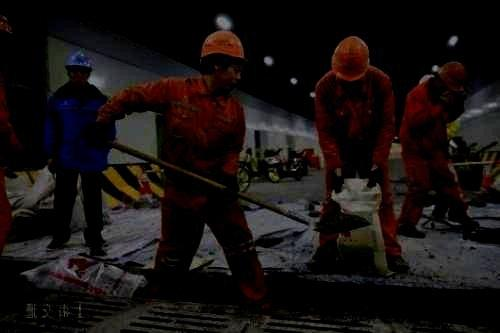helmet: (198, 29, 245, 89), (330, 36, 370, 82), (434, 61, 467, 101), (64, 49, 93, 86)
